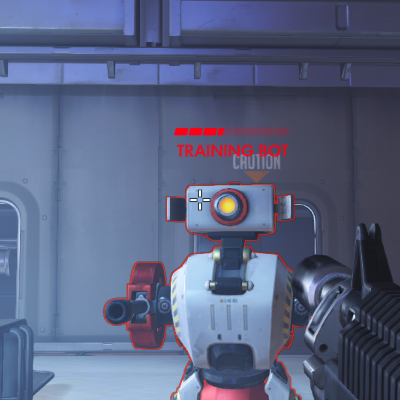hpbar: (173, 127, 290, 136)
